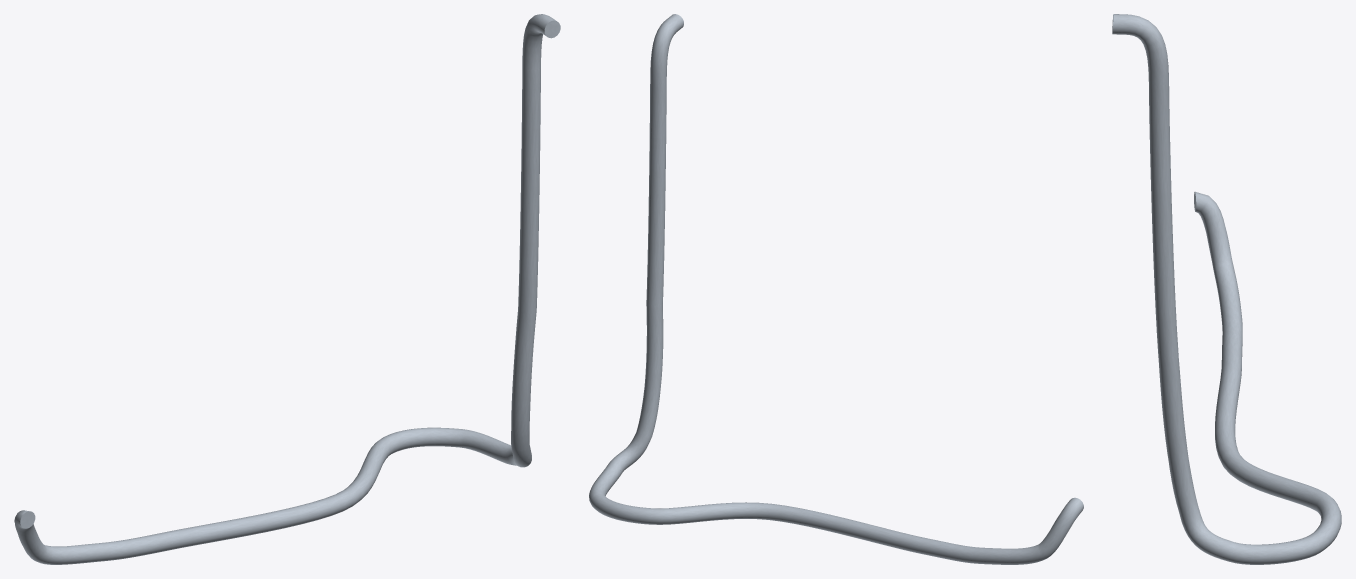
Rendered from SM_Cable_2_Splines_11.fbx.
The picture shows the model from 3 angles, left to right: view 1: azimuth 30°, elevation 25°; view 2: azimuth 150°, elevation 25°; view 3: azimuth 270°, elevation 25°; orthographic projection. The views are drawn at different scales.
Visible parts, largest first — view 1: SM_Cable_2_Splines_11; view 2: SM_Cable_2_Splines_11; view 3: SM_Cable_2_Splines_11.
Boxes of the visible parts, x1,y1,x2,y2 form: SM_Cable_2_Splines_11: [14, 14, 560, 564]; SM_Cable_2_Splines_11: [589, 14, 1083, 564]; SM_Cable_2_Splines_11: [1112, 14, 1341, 564].
Size of the model in its own units: 289 by 100 by 260.
